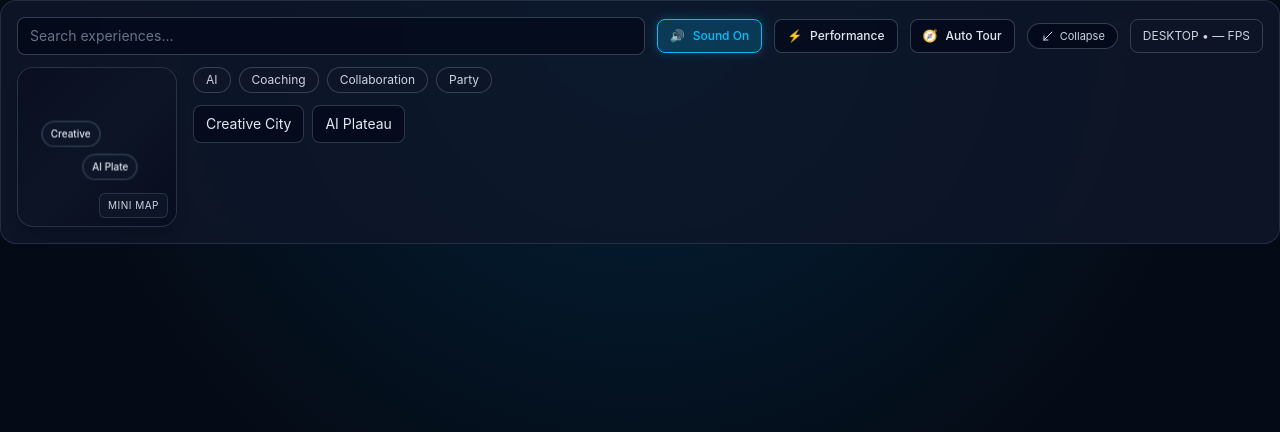
Test: Navigator › filters apps by search query
The image size is (1280, 432).
Type "ai" into the search field with placeholder "Search experiences...". click: (331, 36)
box: [17,17,645,55]
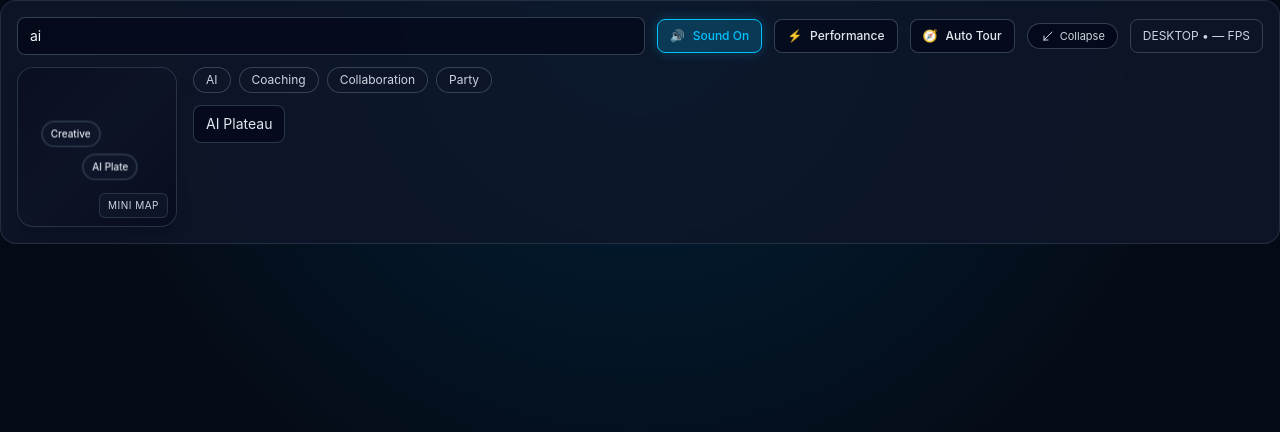
Expected: the button "AI Plateau" is shown, [193,105,285,143]
Now the button "Creative City" is gone
